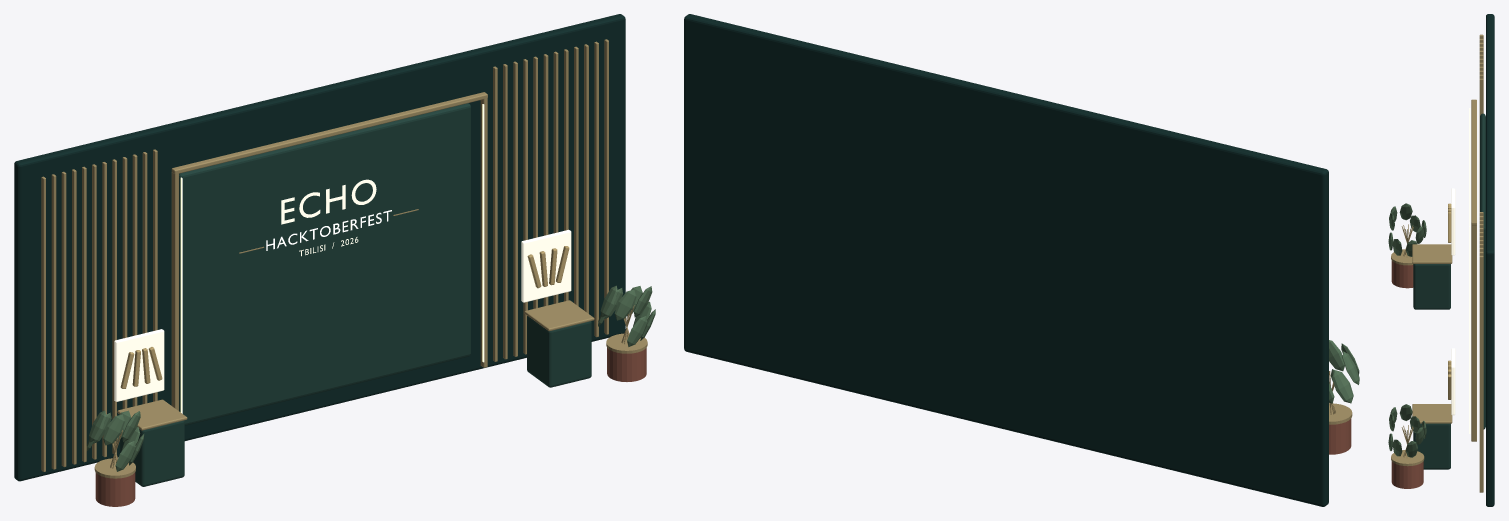
File: festival-set.glb
3 views of the same model, side by side, from view 1: azimuth 30°, elevation 25°; view 2: azimuth 150°, elevation 25°; view 3: azimuth 270°, elevation 25° (orthographic). The views are drawn at different scales.
Parts seen in each view (by area): view 1: FestivalSet / deep, FestivalSet / panel, FestivalSet / bronze, FestivalSet / ivory, FestivalSet / leaf, FestivalSet / clay, FestivalSet / lime, FestivalSet / ochre; view 2: FestivalSet / deep, FestivalSet / leaf; view 3: FestivalSet / bronze, FestivalSet / deep, FestivalSet / panel, FestivalSet / leaf, FestivalSet / clay, FestivalSet / ivory, FestivalSet / lime, FestivalSet / ochre.
Part boxes in pixels (box(x1,y1,x2,y2)): FestivalSet / deep: box(14, 14, 625, 481); FestivalSet / panel: box(120, 103, 591, 486); FestivalSet / bronze: box(41, 39, 647, 478); FestivalSet / ivory: box(114, 179, 571, 401); FestivalSet / leaf: box(86, 285, 655, 471); FestivalSet / clay: box(95, 348, 646, 506); FestivalSet / lime: box(180, 104, 484, 413); FestivalSet / ochre: box(120, 246, 569, 388); FestivalSet / deep: box(684, 14, 1328, 506); FestivalSet / leaf: box(1329, 340, 1359, 403); FestivalSet / bronze: box(1391, 34, 1483, 492); FestivalSet / deep: box(1486, 14, 1494, 506); FestivalSet / panel: box(1413, 113, 1485, 469); FestivalSet / leaf: box(1388, 203, 1426, 457); FestivalSet / clay: box(1391, 261, 1423, 488); FestivalSet / ivory: box(1451, 188, 1455, 415); FestivalSet / lime: box(1469, 108, 1470, 433); FestivalSet / ochre: box(1448, 203, 1451, 399).
Bounding box in the file's own units: 7.8 × 3.9 × 1.47.
